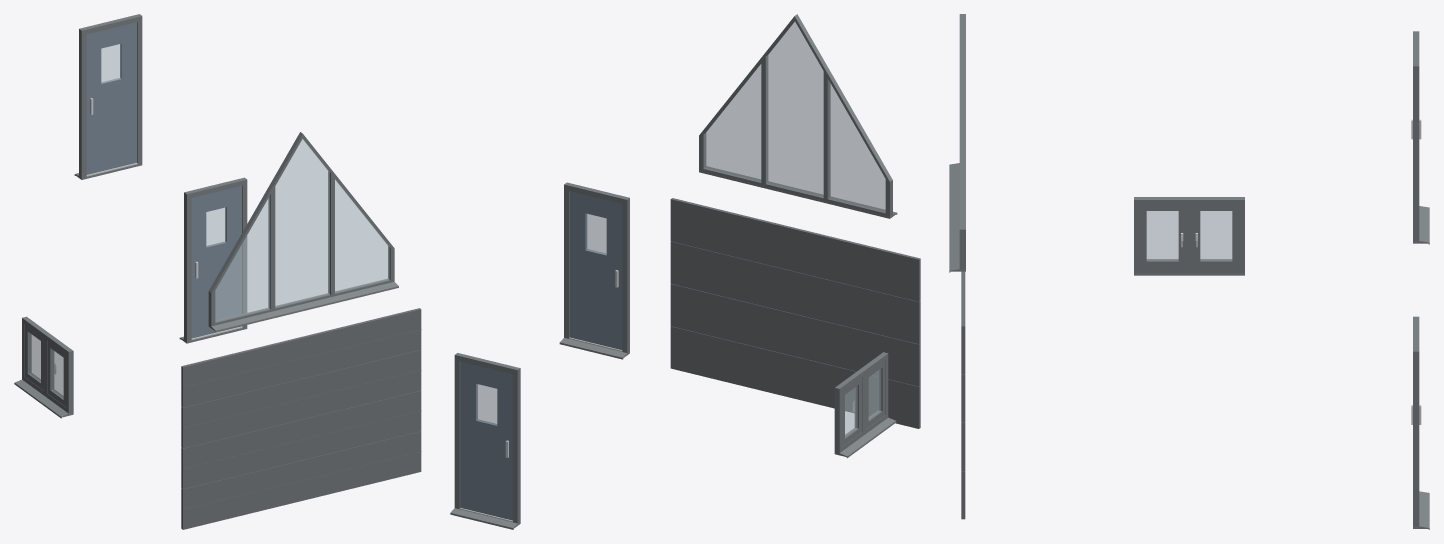
File: stage-7.glb
3 renders of one model, left to right at view 1: azimuth 30°, elevation 25°; view 2: azimuth 150°, elevation 25°; view 3: azimuth 270°, elevation 25°, orthographic. The views are drawn at different scales.
Parts seen in each view (by area): view 1: Geom3D (×5); view 2: Geom3D (×5); view 3: Geom3D (×4).
Part boxes in pixels (left/top/right/bottom): Geom3D (×5): left=14, top=14, right=421, bottom=529; Geom3D (×5): left=450, top=14, right=920, bottom=529; Geom3D (×4): left=949, top=14, right=1429, bottom=529.
Size of the model in its own units: 4.46 by 5.17 by 5.15.
